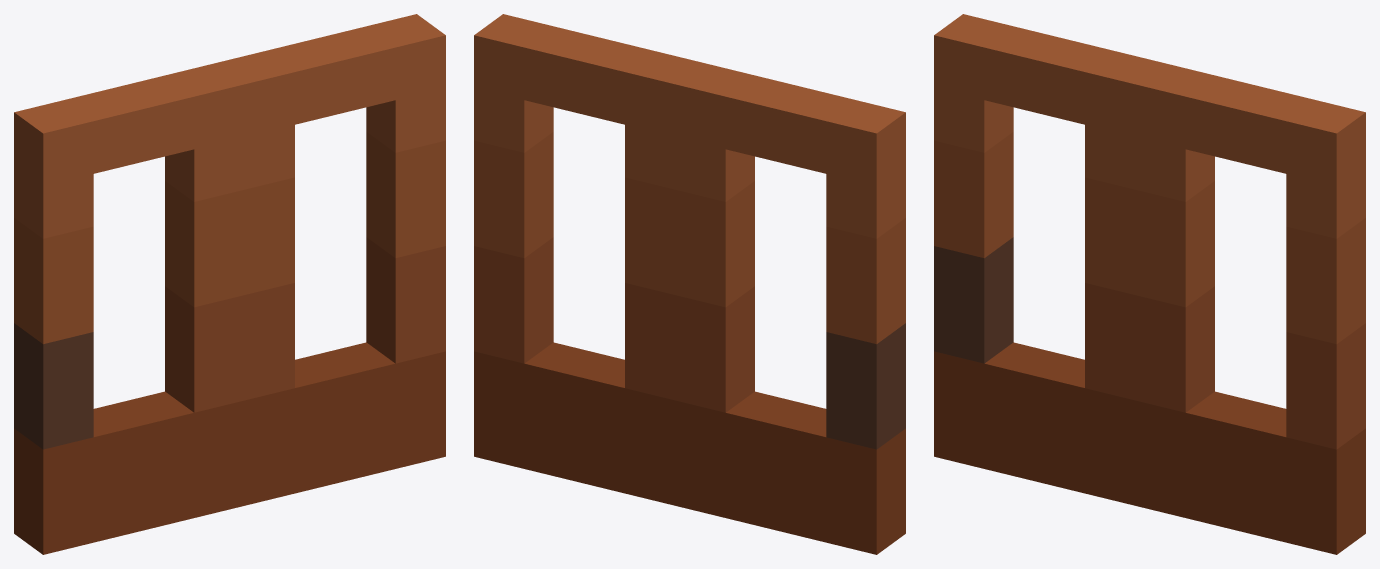
File: Plum Door.glb
The picture shows the model from 3 angles, left to right: view 1: azimuth 30°, elevation 25°; view 2: azimuth 150°, elevation 25°; view 3: azimuth 330°, elevation 25°; orthographic projection.
Parts seen in each view (by area): view 1: generated(Clone); view 2: generated(Clone); view 3: generated(Clone).
Boxes of the visible parts, x1,y1,x2,y2 form: generated(Clone): (14,14,445,554); generated(Clone): (474,14,905,554); generated(Clone): (934,14,1365,554).
Size of the model in its own units: 8 by 8 by 1.
Materials: 1 (1 with a texture image).
